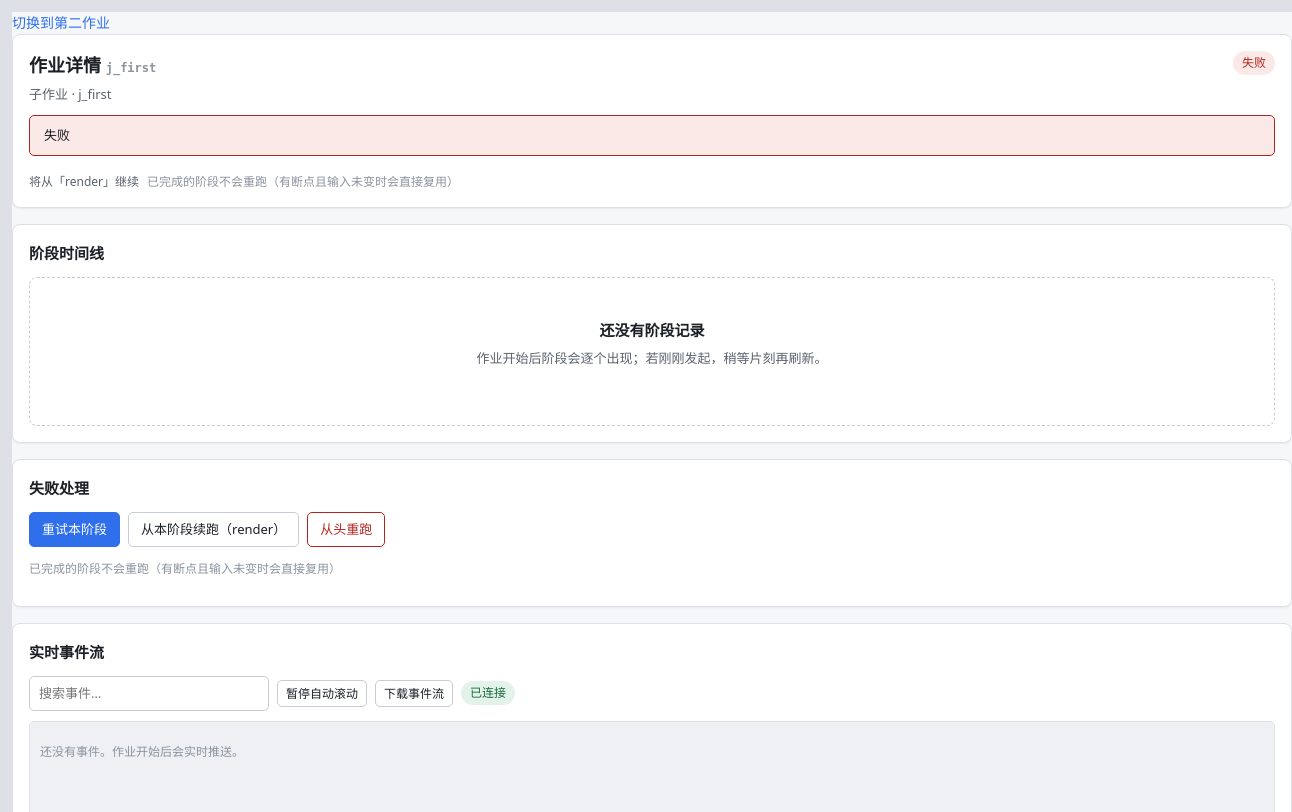
Scenario: 作业详情操作与最终产物 › 在操作仍 pending 时进入另一缓存作业，不禁用第二作业的操作
The image size is (1292, 812).
Click the button "重试本阶段".
click(74, 529)  # box [29,512,120,547]
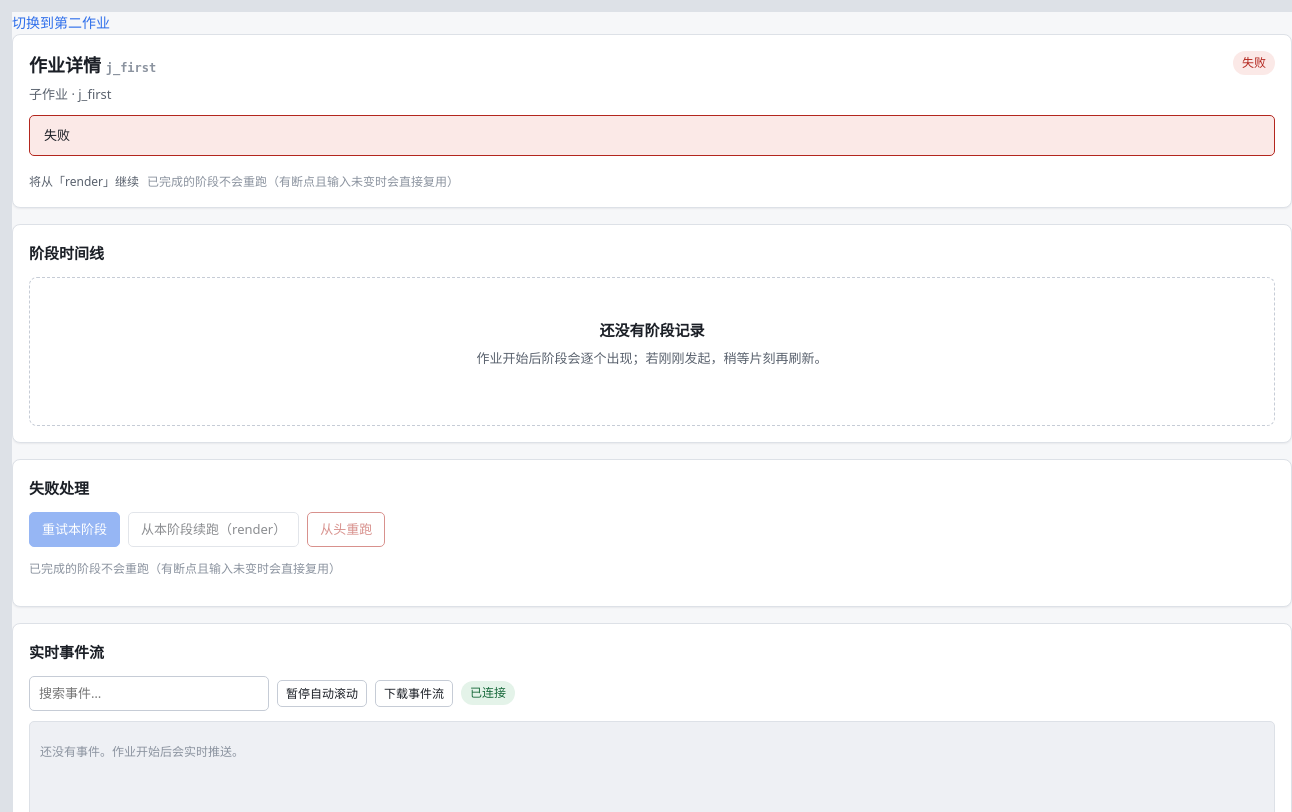
expect the button "重试本阶段" is disabled: met, box [29,512,120,547]
Click the link "切换到第二作业".
click(61, 22)  # box [12,13,110,32]
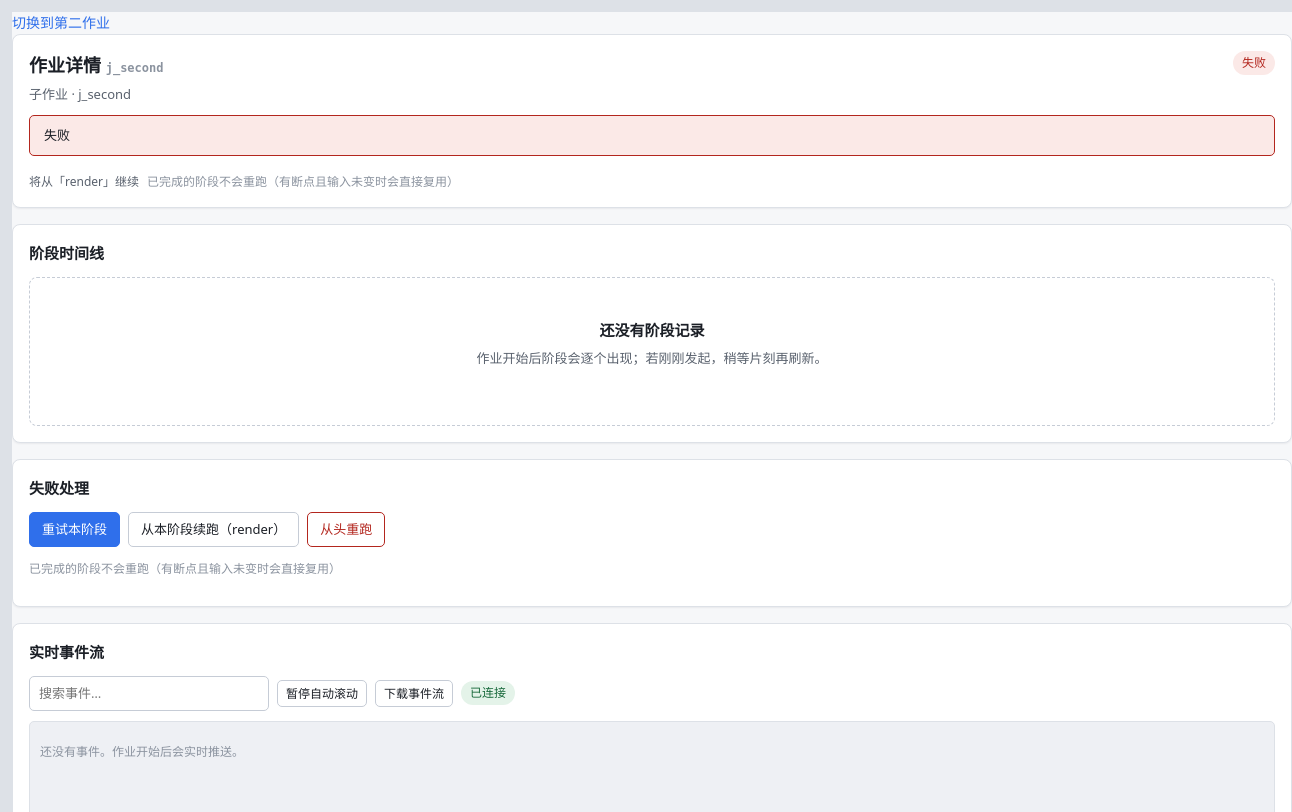
expect the heading "作业详情 j_second" is shown: met, box [29,51,164,80]
expect the button "重试本阶段" is enabled: met, box [29,512,120,547]
